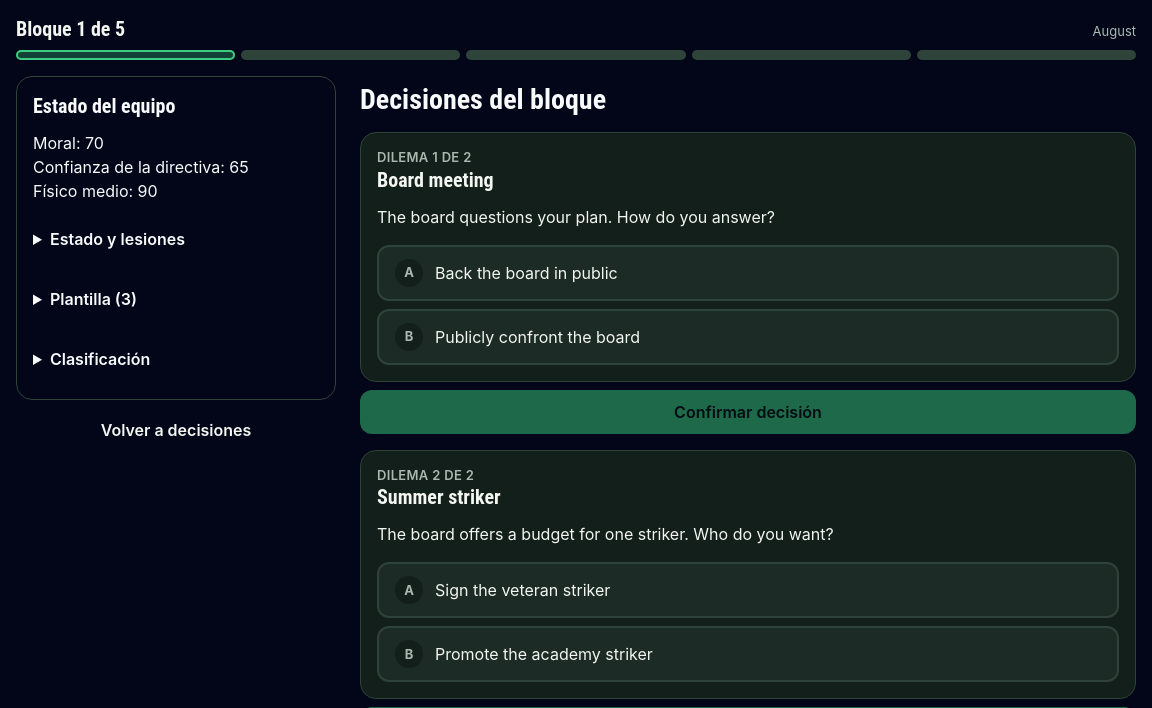
it: RunLoop › recovers an applied decision whose acknowledgement was lost without applying it twice or attributing a delta
The image size is (1152, 708).
Expected: the heading "Board meeting" is shown, [377, 168, 494, 192]
Click the button "A Back the board in public" at (526, 273), box [377, 245, 1119, 301]
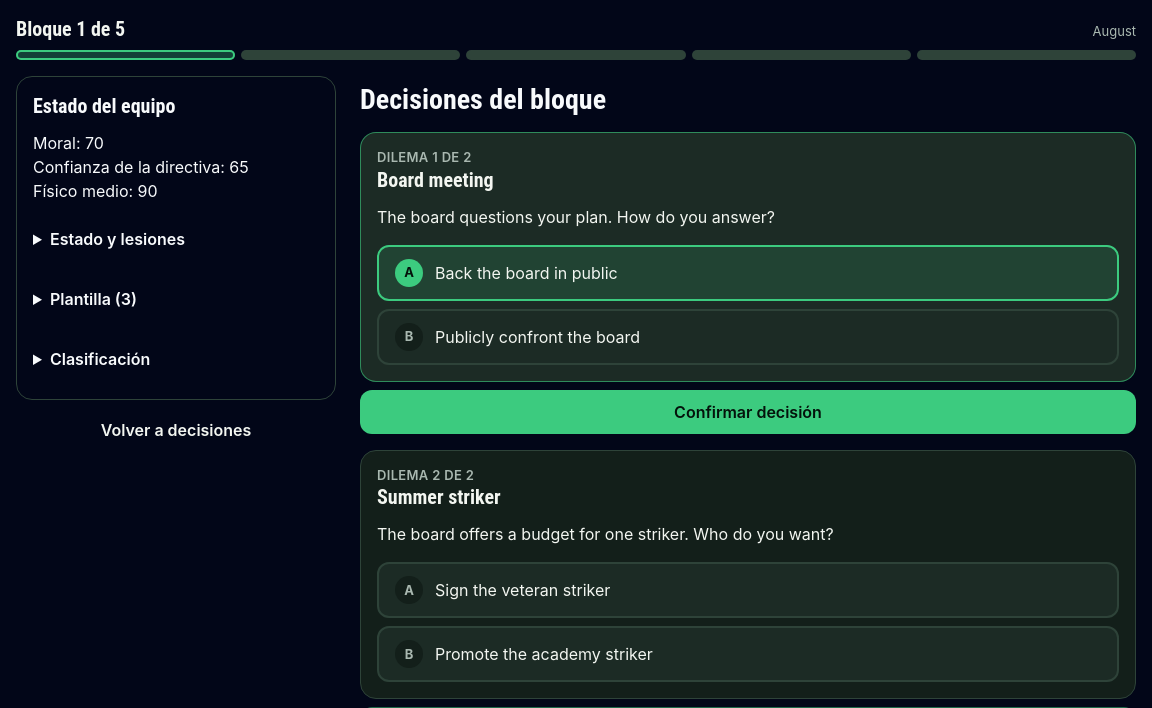
Click the button with aria-label "Confirmar: Board meeting" at (748, 412), box [360, 390, 1136, 434]
(page scrolled)
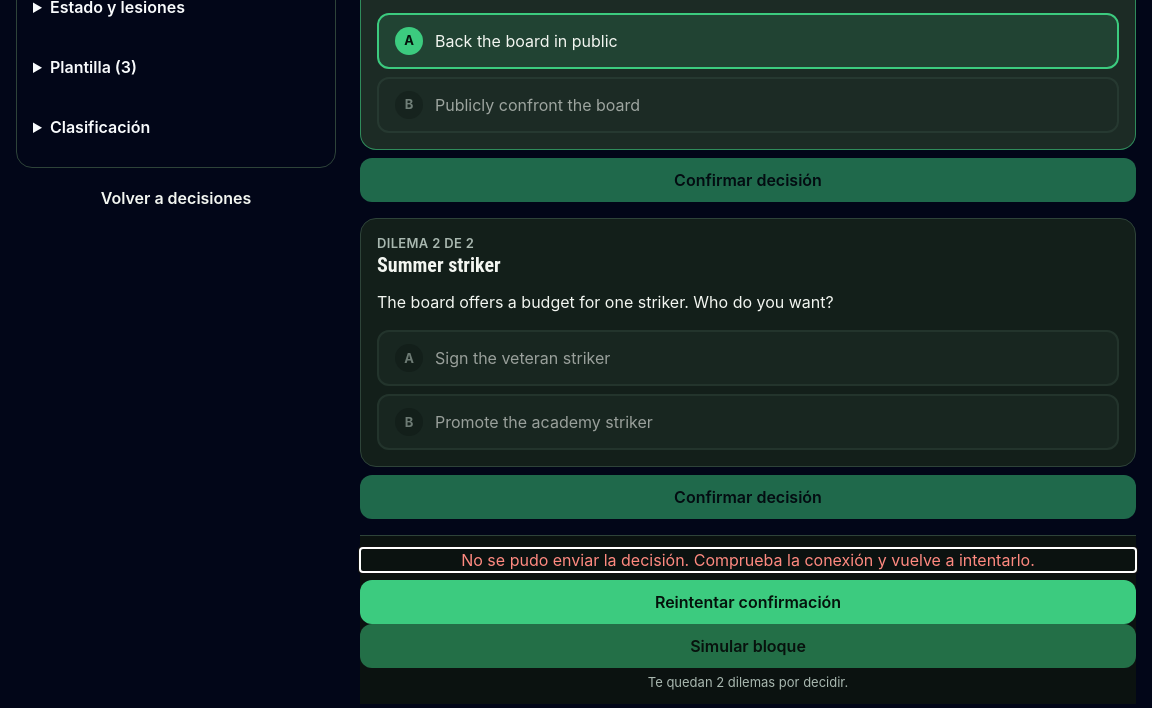
Now the message "No se pudo enviar la decisión. Comprueba la conexión y vuelve a intentarlo." is shown, box [461, 550, 1035, 570]
Click the button "Reintentar confirmación" at (748, 602), box [360, 580, 1136, 624]
(page scrolled)
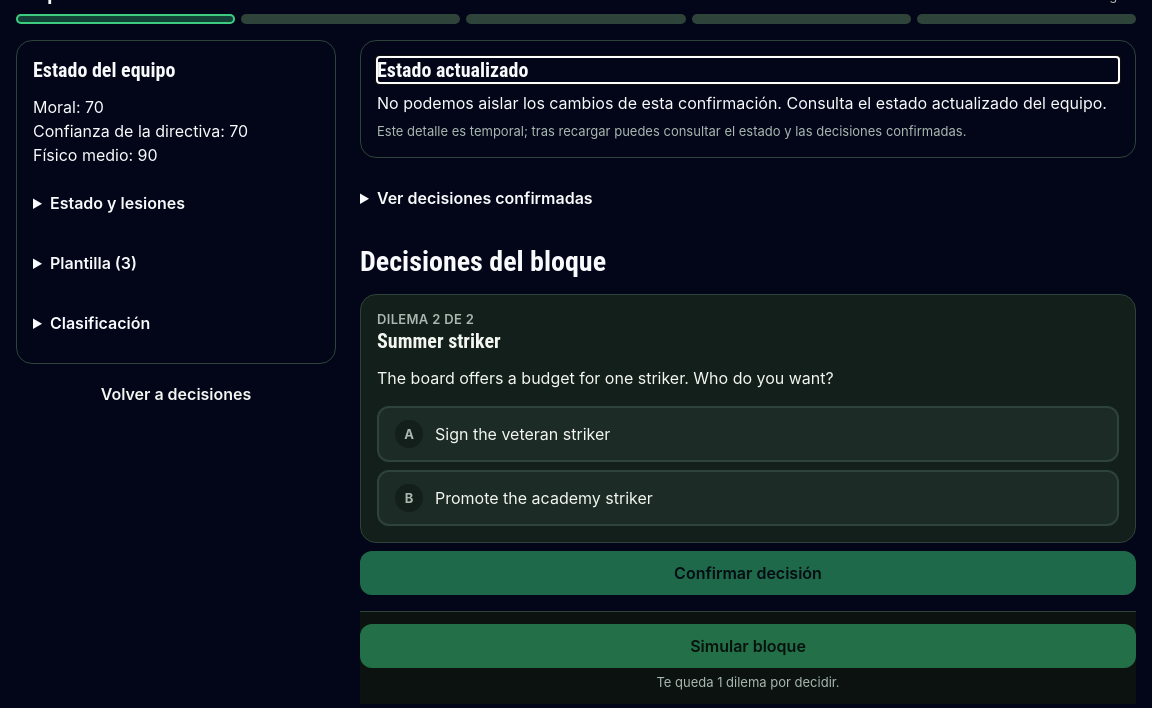
Now the heading "Estado actualizado" is shown, box [377, 58, 528, 82]
